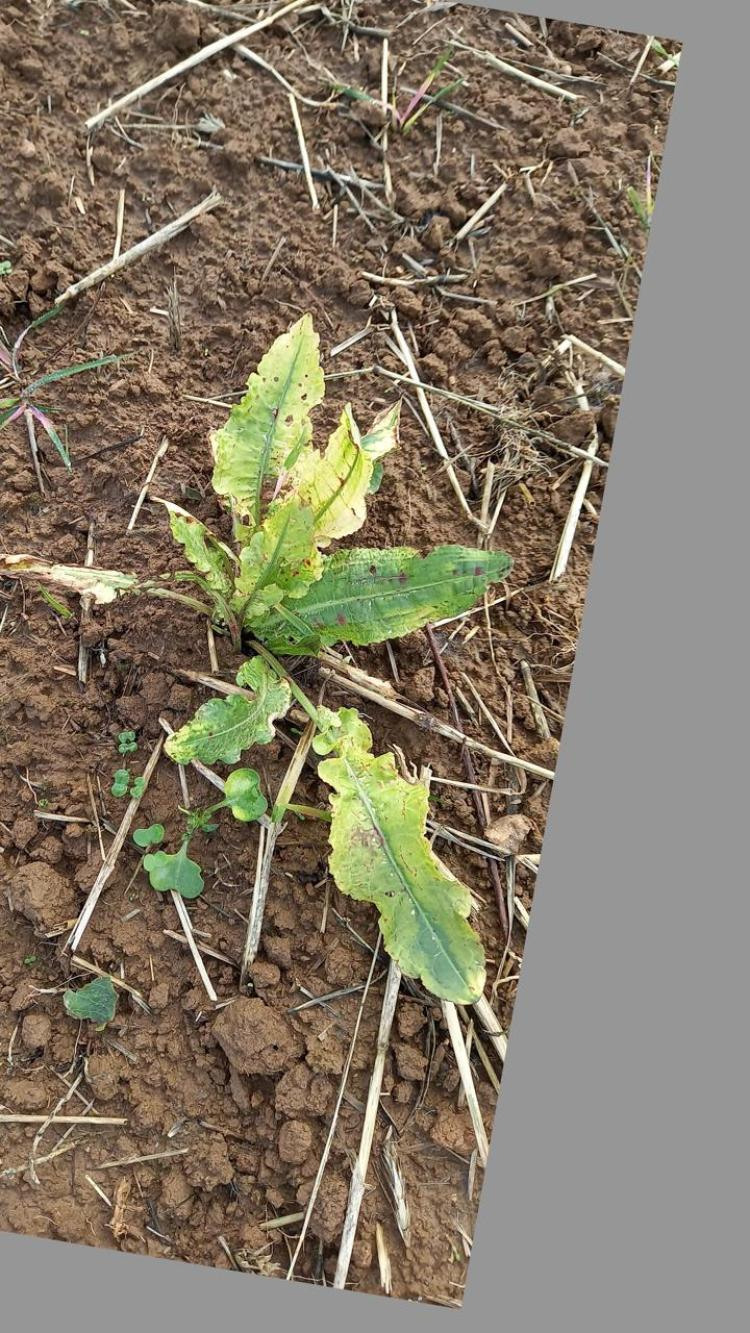zhavel: (140, 314, 518, 1016)
